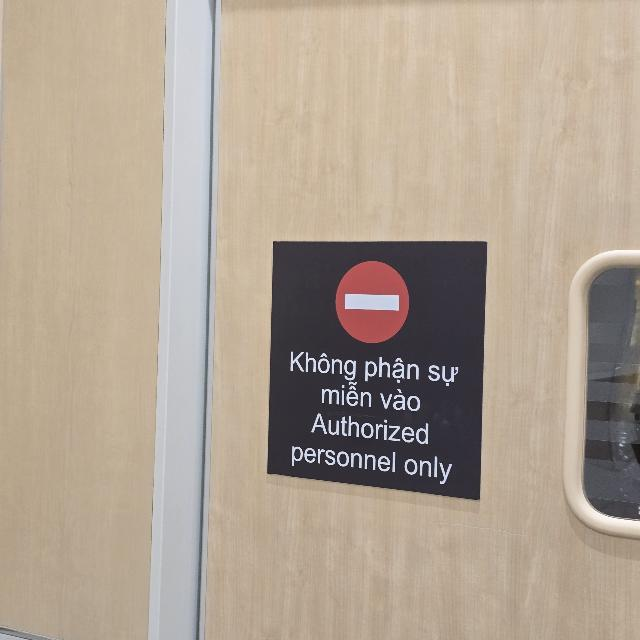no_entry: (267, 241, 487, 500)
